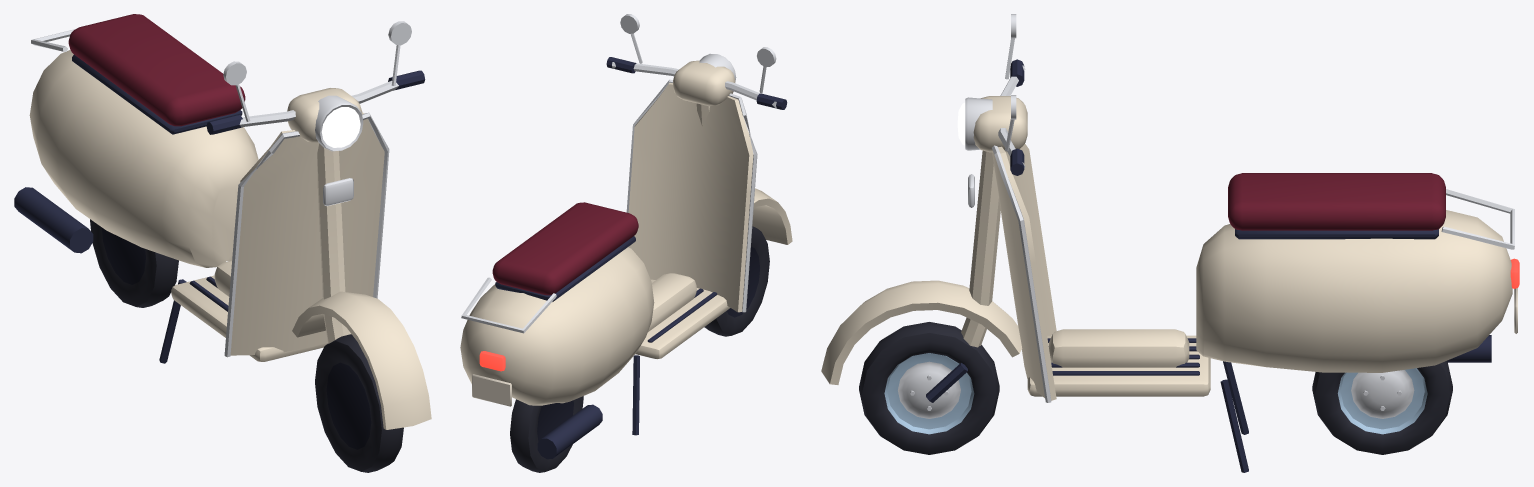
File: scooter.glb
The picture shows the model from 3 angles, left to right: view 1: azimuth 30°, elevation 25°; view 2: azimuth 150°, elevation 25°; view 3: azimuth 270°, elevation 25°; orthographic projection. The views are drawn at different scales.
Parts seen in each view (by area): view 1: body, handlebar, wheel_f, wheel_r; view 2: body, handlebar, wheel_r, wheel_f; view 3: body, handlebar, wheel_f, wheel_r.
Part boxes in pixels (x1,y1,x2,y2): body: (14, 14, 389, 363); handlebar: (206, 21, 431, 429); wheel_f: (315, 334, 403, 472); wheel_r: (90, 219, 178, 307); body: (460, 79, 757, 459); handlebar: (606, 14, 792, 244); wheel_r: (510, 396, 583, 472); wheel_f: (704, 226, 769, 336); body: (968, 144, 1519, 472); handlebar: (821, 14, 1027, 402); wheel_f: (859, 322, 999, 454); wheel_r: (1312, 361, 1452, 454).
Bounding box in the file's own units: 0.7 × 1.25 × 1.99.
Materials: 3 (3 with a texture image).
